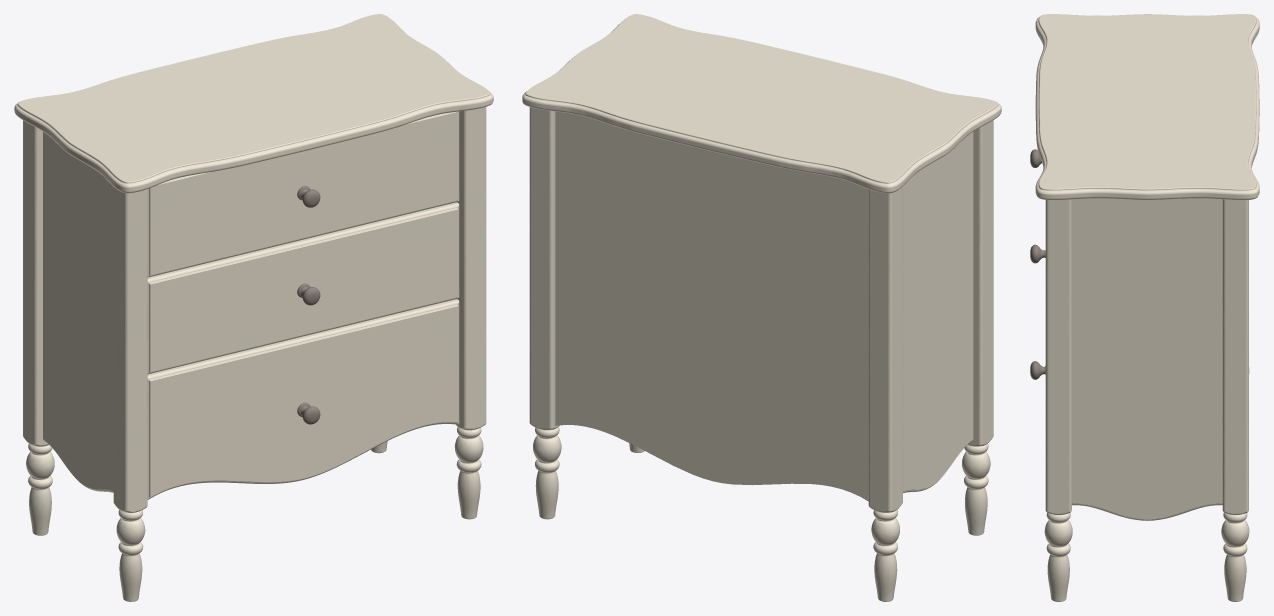
File: drawer1.glb
3 views of the same model, side by side, from view 1: azimuth 30°, elevation 25°; view 2: azimuth 150°, elevation 25°; view 3: azimuth 270°, elevation 25° (orthographic). The views are drawn at different scales.
Parts seen in each view (by area): view 1: object_005, object_012, object_27, object_007; view 2: object_005, object_012, object_27, object_007; view 3: object_007, object_012, object_27.
Boxes of the visible parts, x1,y1,x2,y2 form: object_005: (147,111,459,499); object_012: (14,14,493,193); object_27: (23,107,486,601); object_007: (43,132,113,492); object_005: (555,111,868,501); object_012: (522,14,1001,193); object_27: (529,107,993,601); object_007: (903,132,973,492); object_007: (1072,198,1222,520); object_012: (1035,14,1259,200); object_27: (1044,199,1249,601).
Size of the model in its own units: 0.6424 by 0.7001 by 0.3494.
